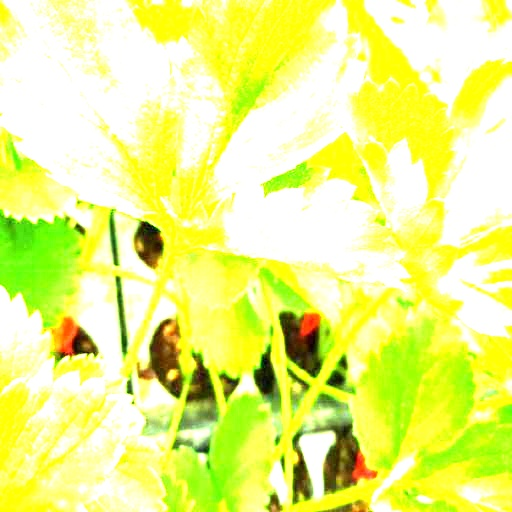Powdery Mildew Leaf: (165, 158, 411, 292), (330, 77, 465, 319), (0, 366, 129, 511)
